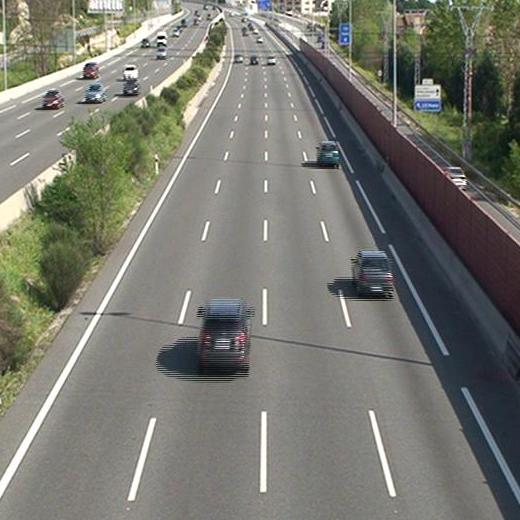car: (198, 300, 250, 371), (352, 250, 393, 294), (316, 141, 339, 165), (266, 55, 276, 66), (233, 54, 243, 63), (250, 54, 258, 65)
